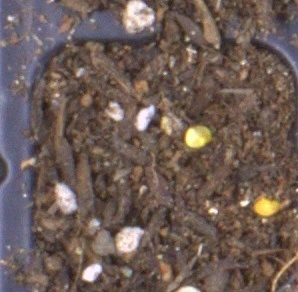chilli seed: (184, 124, 213, 148), (253, 193, 280, 217)
